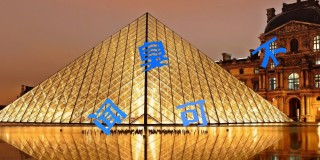不: (249, 36, 287, 71)
可: (174, 99, 210, 128)
臭: (137, 39, 171, 71)
闻: (86, 98, 129, 136)
